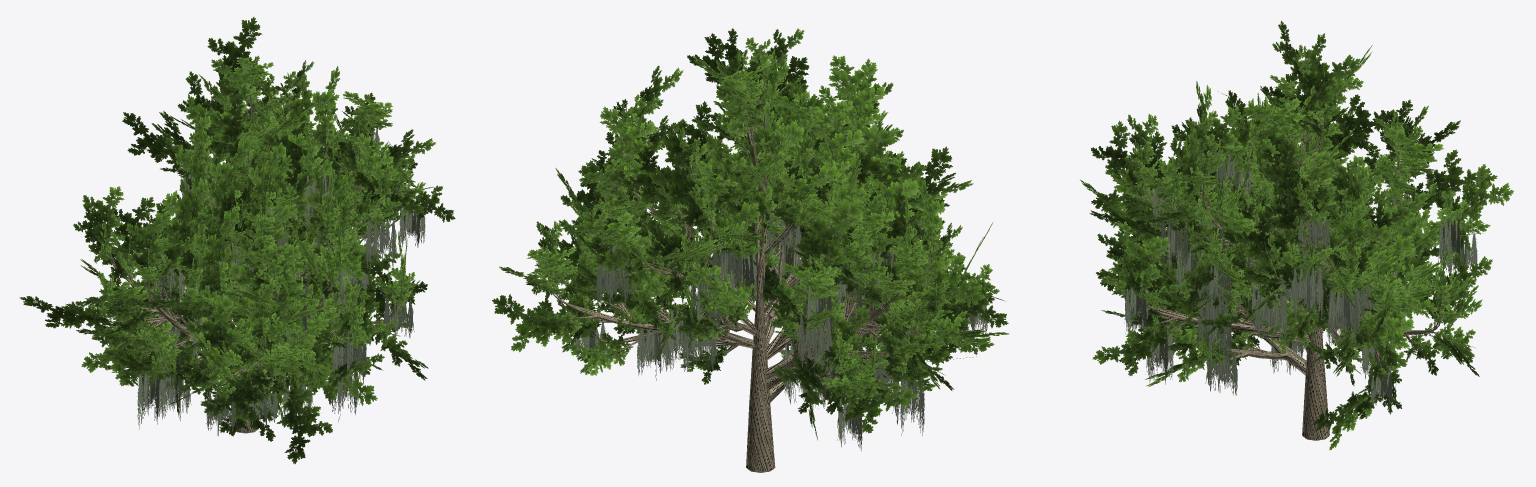
Rendered from tree_live_oak_moss.glb.
The picture shows the model from 3 angles, left to right: view 1: azimuth 30°, elevation 25°; view 2: azimuth 150°, elevation 25°; view 3: azimuth 270°, elevation 25°; orthographic projection. The views are drawn at different scales.
Parts seen in each view (by area): view 1: LOD1_leaves, LOD0_leaves, LOD0_moss, LOD1_moss, LOD1_trunk, LOD0_trunk; view 2: LOD1_leaves, LOD0_leaves, LOD0_moss, LOD0_trunk, LOD1_trunk, LOD1_moss; view 3: LOD1_leaves, LOD0_leaves, LOD0_moss, LOD0_trunk, LOD1_moss, LOD1_trunk.
Boxes of the visible parts, x1,y1,x2,y2 form: LOD1_leaves: (19,17,455,463); LOD0_leaves: (61,57,428,429); LOD0_moss: (137,130,425,436); LOD1_moss: (156,185,402,420); LOD1_trunk: (109,97,406,432); LOD0_trunk: (107,88,408,433); LOD1_leaves: (492,28,1008,440); LOD0_leaves: (521,48,994,413); LOD0_moss: (585,136,987,448); LOD0_trunk: (551,76,931,472); LOD1_trunk: (554,100,930,471); LOD1_moss: (573,149,896,451); LOD1_leaves: (1080,20,1513,450); LOD0_leaves: (1110,47,1486,419); LOD0_moss: (1124,149,1466,407); LOD0_trunk: (1138,98,1441,440); LOD1_moss: (1132,196,1477,403); LOD1_trunk: (1145,112,1441,436).
Size of the model in its own units: 14.98 by 13.45 by 13.76.
Materials: 3 (3 with a texture image).
